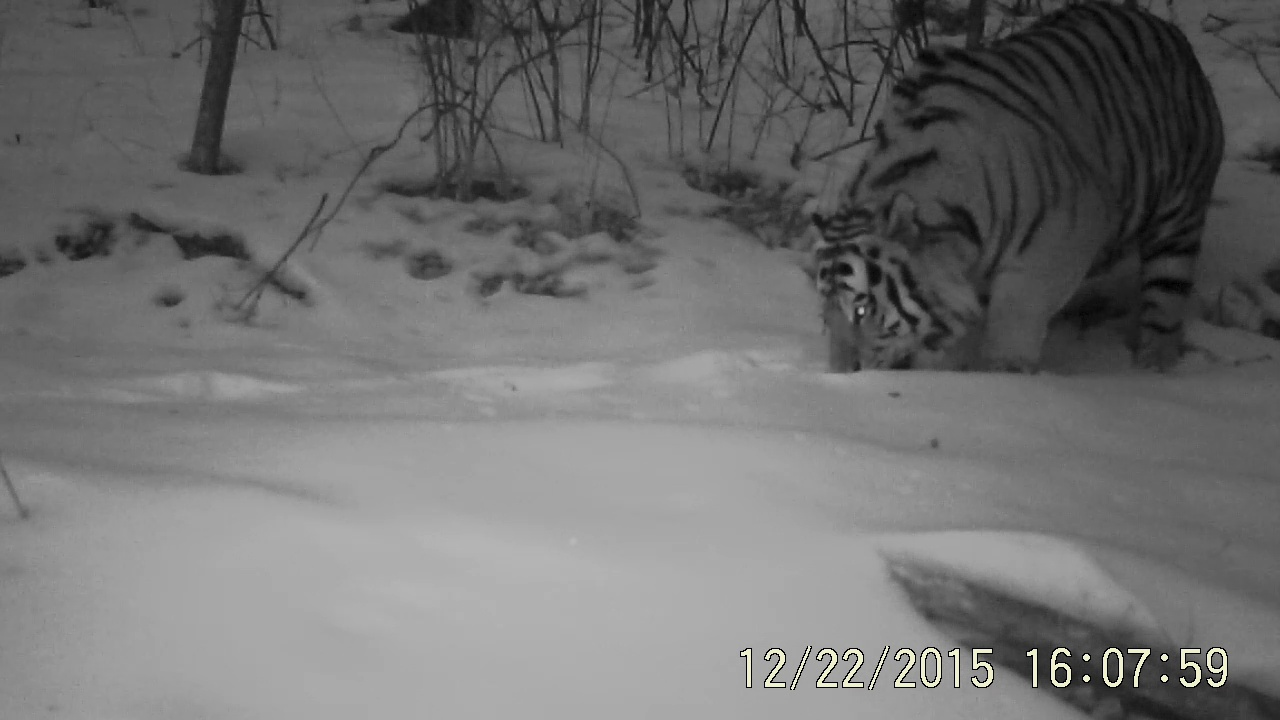Tiger: (776, 3, 1280, 442)
